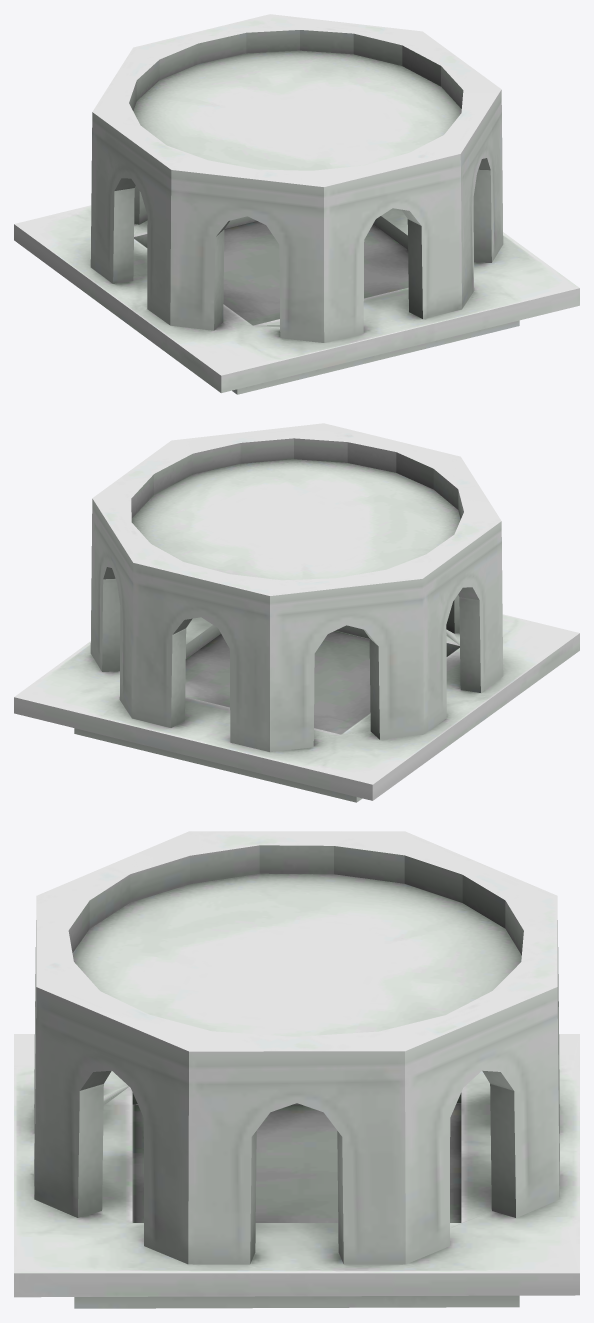
File: BuildingBlock03.obj
3 renders of one model, top to bottom at view 1: azimuth 30°, elevation 25°; view 2: azimuth 150°, elevation 25°; view 3: azimuth 270°, elevation 25°, orthographic. The views are drawn at different scales.
Parts seen in each view (by area): view 1: BuildingBlock03.001; view 2: BuildingBlock03.001; view 3: BuildingBlock03.001.
Boxes of the visible parts, bbox=[...] form: BuildingBlock03.001: bbox=[14, 14, 579, 394]; BuildingBlock03.001: bbox=[14, 423, 579, 802]; BuildingBlock03.001: bbox=[14, 831, 579, 1308].
Bounding box in the file's own units: 1.78 × 0.9487 × 1.78.
1 material, 1 textured.
